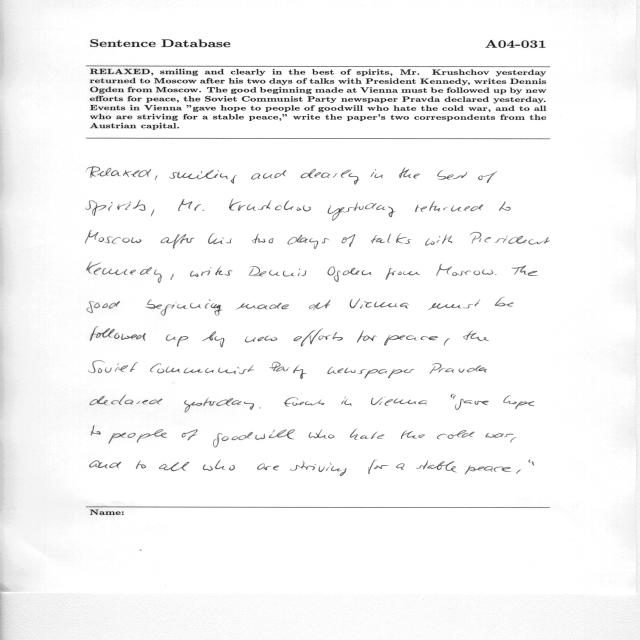word: (87, 262, 162, 283), (213, 430, 295, 448), (146, 299, 223, 316), (328, 202, 395, 221), (150, 364, 255, 375), (229, 199, 311, 212), (184, 398, 254, 413), (470, 232, 550, 245), (327, 367, 415, 378), (169, 170, 237, 184), (293, 328, 343, 347), (301, 169, 360, 185), (87, 200, 146, 216), (108, 429, 167, 444), (290, 461, 347, 476), (90, 326, 146, 341), (86, 230, 142, 244), (415, 201, 483, 212), (90, 395, 162, 405), (87, 167, 151, 178), (437, 264, 494, 276), (328, 267, 372, 282), (248, 266, 307, 277), (270, 362, 307, 379), (430, 363, 487, 374), (384, 335, 438, 346), (350, 299, 409, 309), (288, 235, 330, 249), (89, 361, 138, 373), (428, 299, 480, 310), (161, 234, 195, 249), (371, 397, 427, 406), (416, 460, 457, 472), (190, 266, 232, 277), (465, 465, 511, 475), (503, 395, 535, 409), (371, 233, 411, 244), (386, 268, 420, 280), (350, 428, 384, 440), (284, 397, 324, 407), (87, 301, 120, 313), (455, 399, 489, 410), (202, 331, 224, 347), (203, 460, 235, 471), (252, 170, 287, 180), (437, 430, 474, 439), (425, 234, 452, 246), (236, 303, 289, 309), (178, 199, 204, 211), (437, 170, 467, 180), (368, 460, 389, 474), (90, 460, 122, 469), (512, 265, 538, 276), (166, 334, 188, 347), (159, 462, 189, 471), (208, 233, 232, 244), (357, 330, 377, 343), (463, 331, 489, 341), (309, 430, 335, 439), (399, 168, 420, 179), (245, 336, 277, 343), (252, 234, 274, 244), (309, 300, 330, 310), (478, 172, 497, 183), (401, 431, 425, 439), (181, 430, 198, 441), (495, 298, 514, 307), (342, 234, 355, 247), (257, 464, 279, 471), (485, 433, 514, 438), (371, 169, 383, 178), (499, 202, 511, 211), (91, 426, 101, 436), (341, 397, 352, 406), (136, 461, 146, 469), (396, 463, 405, 470), (444, 338, 449, 346), (511, 437, 517, 443), (529, 460, 534, 466), (451, 395, 456, 400), (516, 469, 521, 474), (151, 209, 154, 217), (171, 274, 174, 280), (155, 176, 157, 180), (495, 274, 497, 275), (259, 408, 261, 409)
